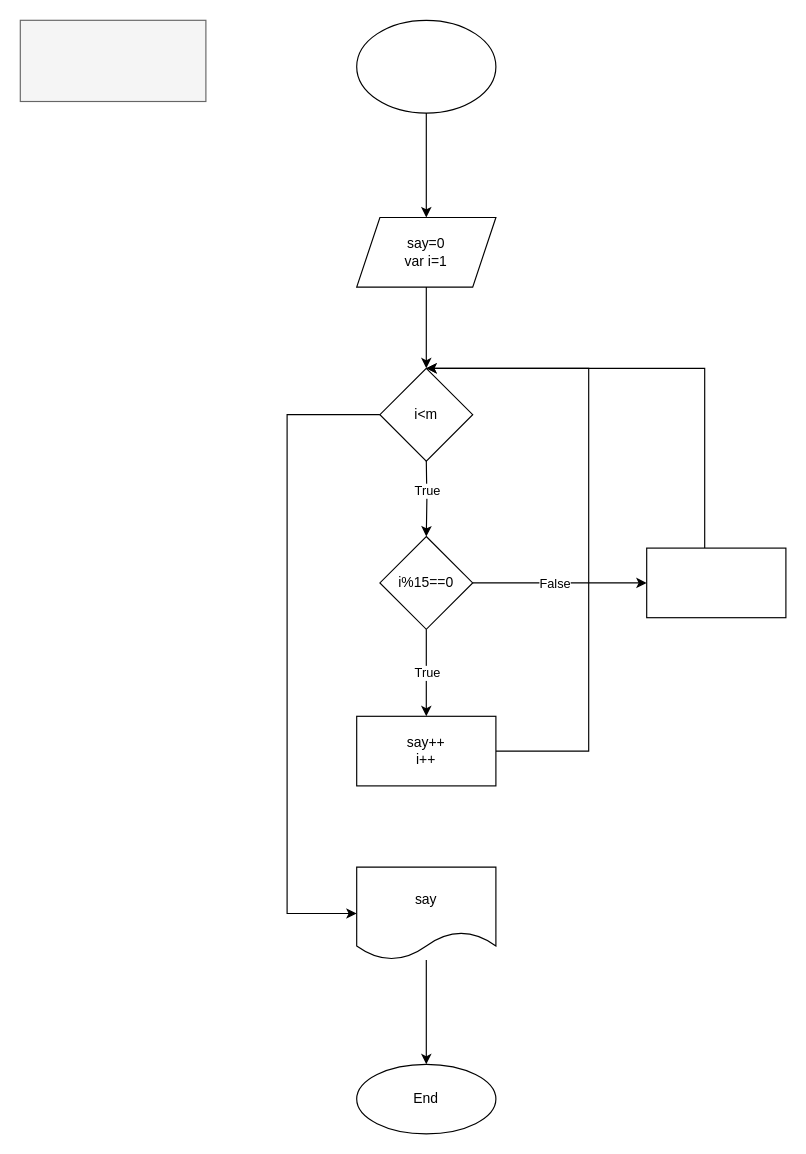
Image size: 806x1154. Some labels were removed from this diagram. Each missing label, with the centre of its shape:
1-dən M-ədək ədədlər içərisində 15-ə bölünən ədədlərin sayını tapan alqoritm: the point at 112,60
i++: the point at 716,582
Start: the point at 426,66
